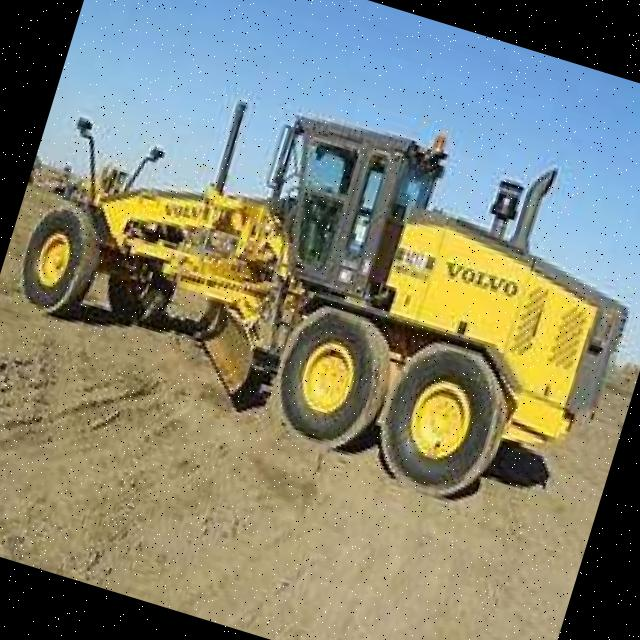Grader: (0, 20, 640, 547)
